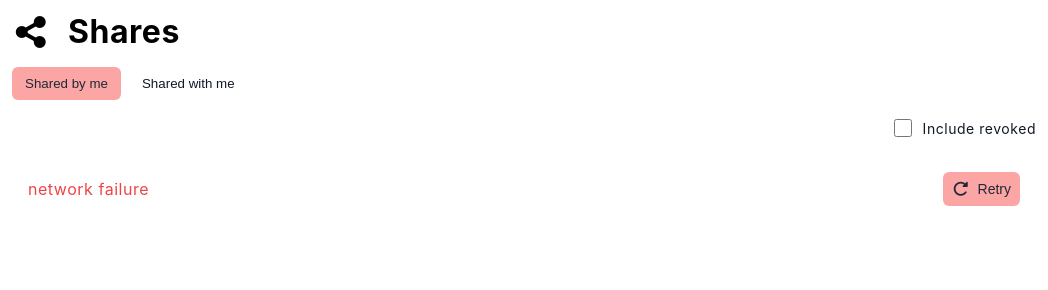
Test case: SharesView › shows an error with retry
The width and height of the screenshot is (1048, 290).
Click the button "Retry": coordinates (982, 189) [943,172,1020,206]
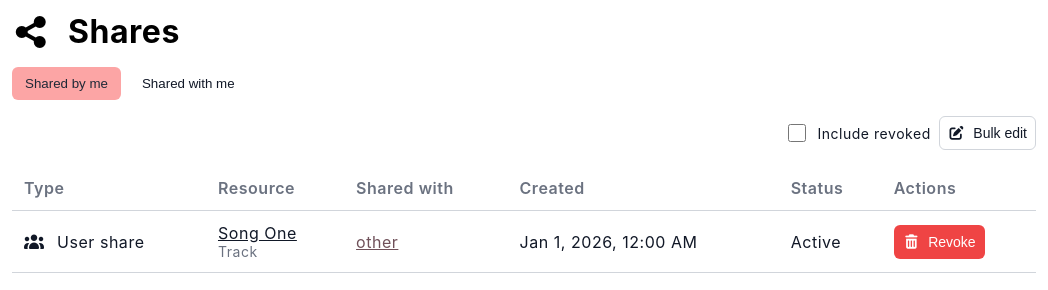
Check: the text "Song One" is shown, box [218,223,297,243]
